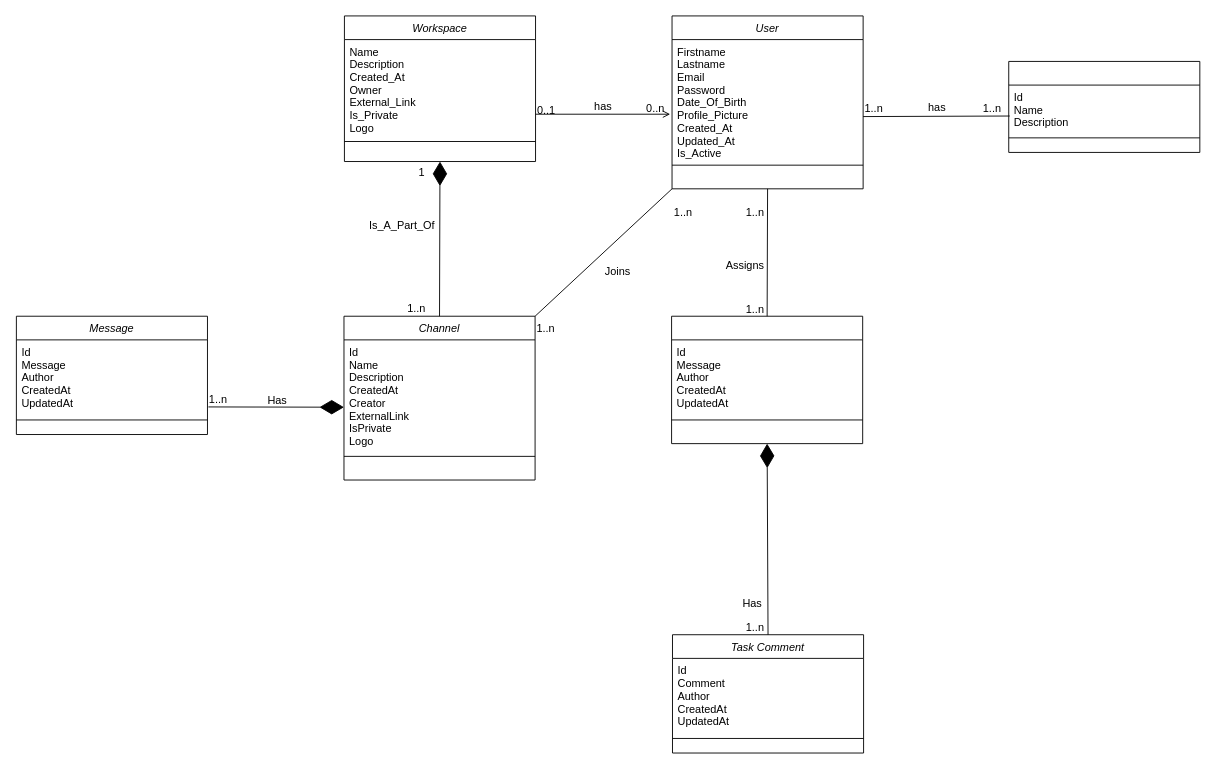
Some shapes in this 1216 by 769 pixel diagram are drawn without their labels. Each missing label, with the box of its shape:
Role: (1008, 61, 1200, 152)
Task: (671, 315, 863, 444)
